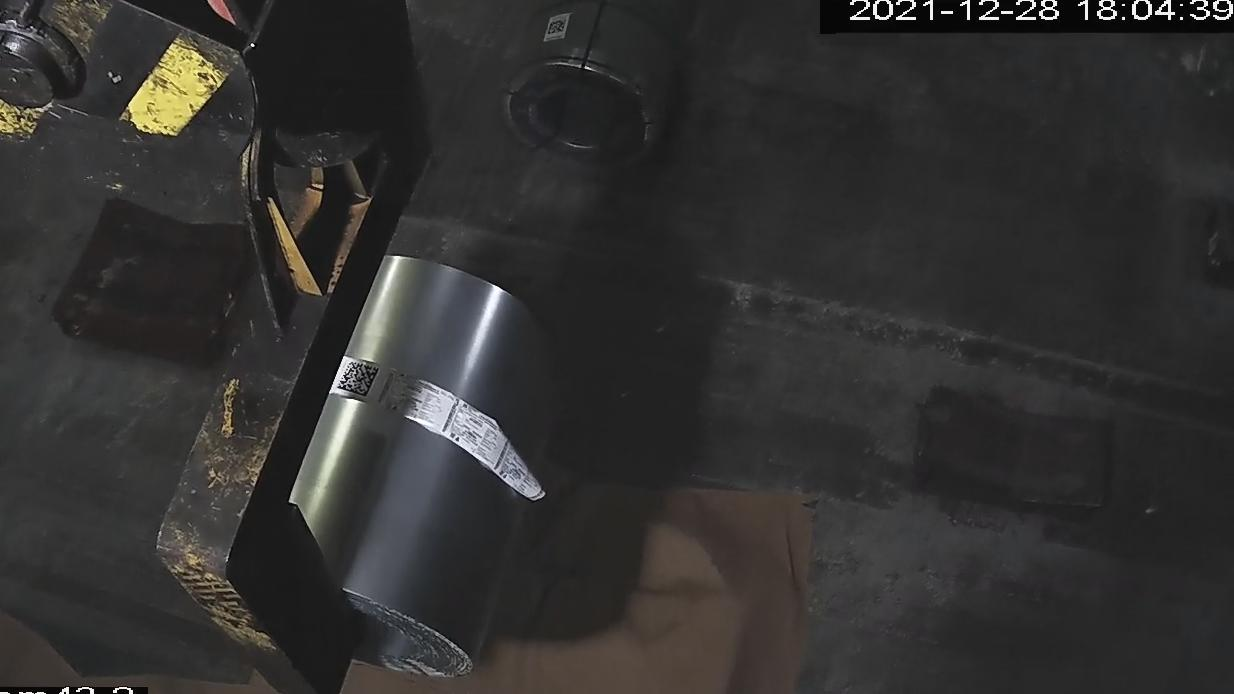data matrix: (336, 357, 382, 400), (545, 17, 570, 38)
